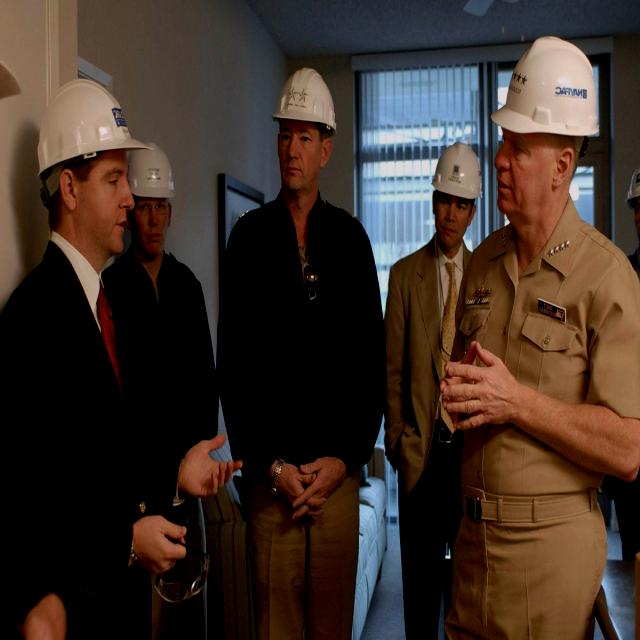face_nomask: (489, 121, 560, 222), (81, 145, 130, 256), (270, 121, 320, 195), (429, 191, 471, 247), (136, 197, 174, 254)
hand_noglove: (440, 339, 512, 438), (272, 451, 347, 525), (178, 430, 244, 505), (130, 497, 188, 580)
head_helmet: (490, 37, 605, 137), (38, 80, 148, 174), (264, 66, 339, 128), (430, 138, 482, 199), (126, 140, 176, 197)
person: (442, 37, 640, 639), (222, 63, 383, 640), (0, 77, 152, 637), (105, 146, 216, 634), (384, 135, 486, 629)
